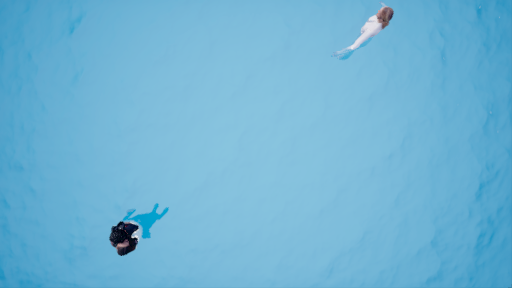person: (102, 197, 174, 256), (333, 3, 397, 56)
